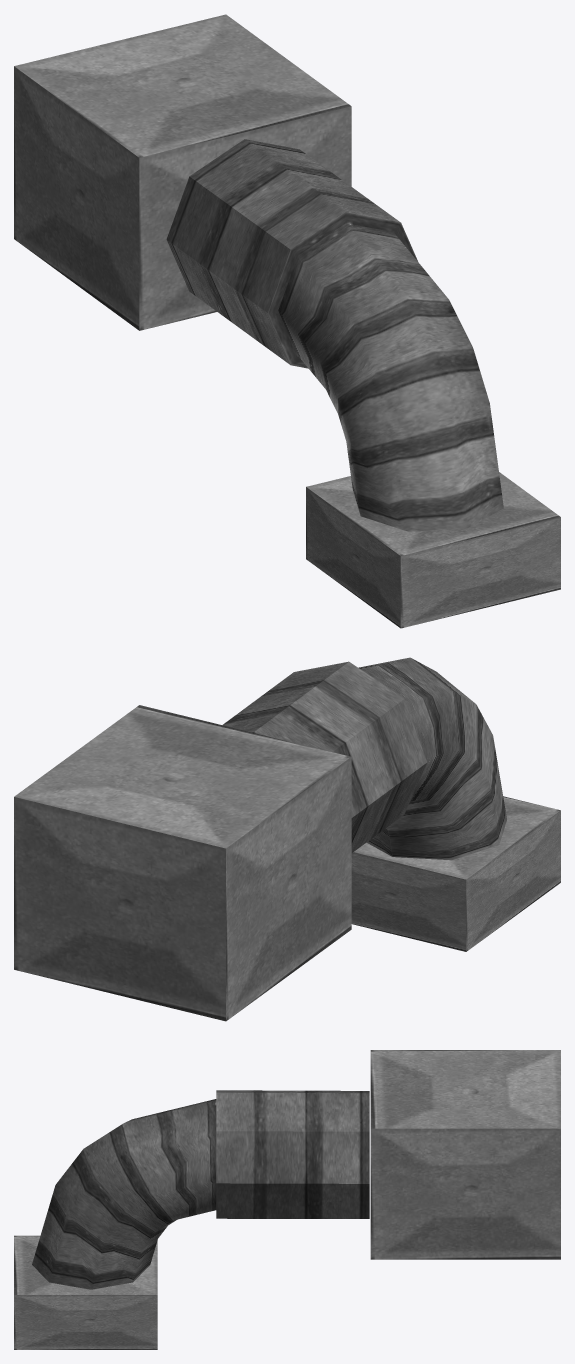
File: Vent_4.FBX
3 renders of one model, top to bottom at view 1: azimuth 30°, elevation 25°; view 2: azimuth 150°, elevation 25°; view 3: azimuth 270°, elevation 25°, orthographic. The views are drawn at different scales.
Parts seen in each view (by area): view 1: Vent_4; view 2: Vent_4; view 3: Vent_4.
Part boxes in pixels (x1,y1,x2,y2): Vent_4: [14, 14, 560, 628]; Vent_4: [14, 657, 560, 1021]; Vent_4: [14, 1050, 560, 1349].
Size of the model in its own units: 0.2128 by 0.2921 by 0.6272.
